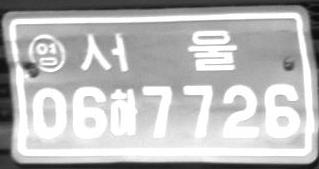0: (31, 86, 68, 141)
2: (220, 84, 261, 139)
6: (263, 82, 300, 139), (71, 84, 108, 140)
7: (141, 84, 173, 139), (182, 83, 213, 139)
서울_D: (80, 29, 237, 72)
영: (28, 32, 65, 73)
하: (109, 88, 138, 136)
